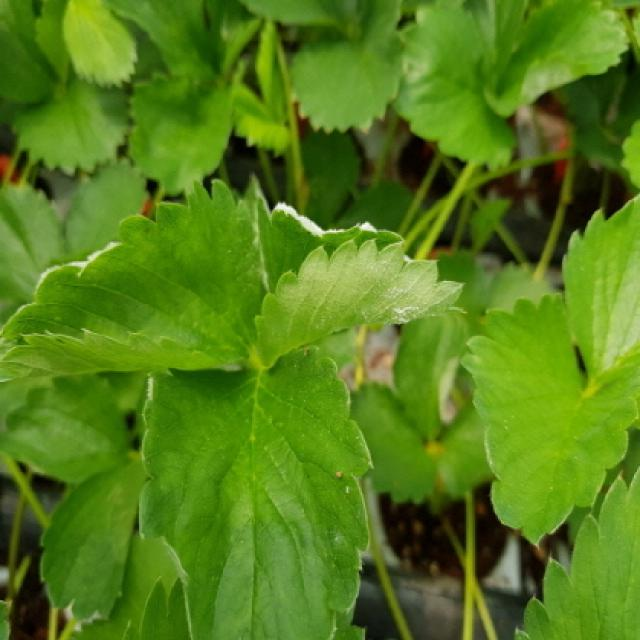Powdery Mildew Leaf: (137, 344, 374, 638), (2, 179, 268, 382), (459, 291, 640, 552), (252, 194, 467, 369)
